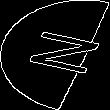N_E: (10, 28, 100, 82)
